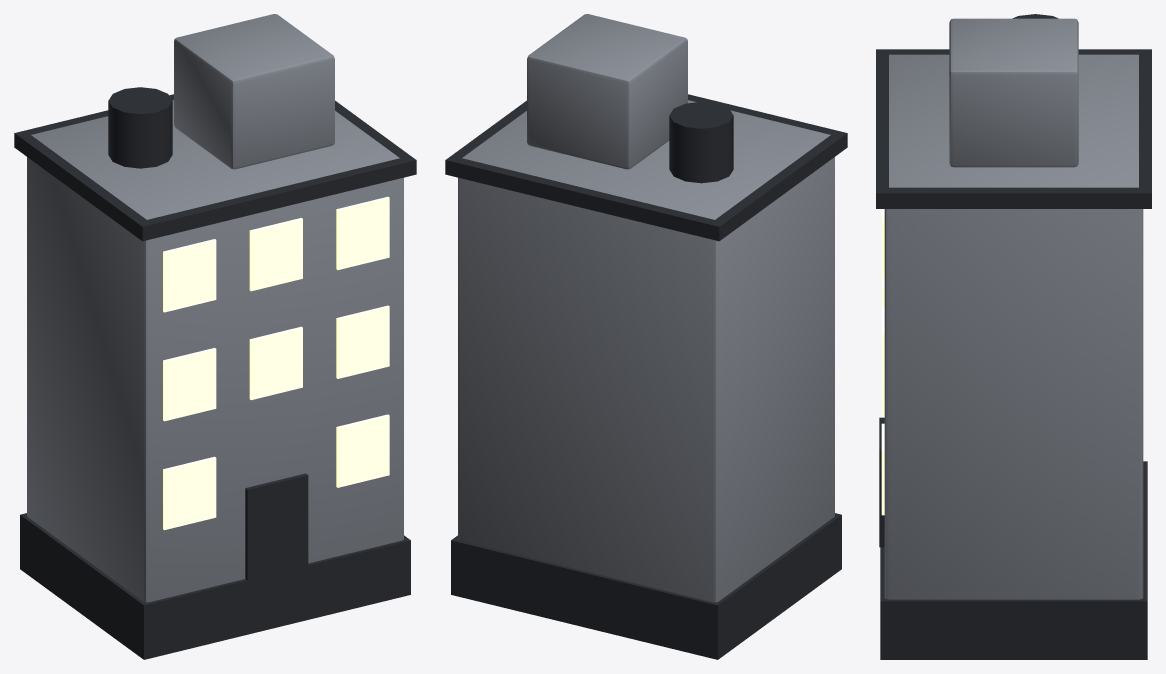
Rendered from predio-15x24.glb.
3 views of the same model, side by side, from view 1: azimuth 30°, elevation 25°; view 2: azimuth 150°, elevation 25°; view 3: azimuth 270°, elevation 25° (orthographic). The views are drawn at different scales.
Visible parts, largest first — view 1: corpo, embasamento, casa-de-maquinas, cornija, porta, caixa-dagua, janela.006, janela.007, janela.008, janela.001, janela.002, janela.003 (+2 smaller); view 2: corpo, embasamento, casa-de-maquinas, cornija, caixa-dagua; view 3: corpo, casa-de-maquinas, embasamento, cornija, porta.
Boxes of the visible parts, x1,y1,x2,y2 form: corpo: (27, 100, 403, 602); embasamento: (20, 513, 410, 659); casa-de-maquinas: (174, 14, 334, 169); cornija: (14, 94, 416, 241); porta: (245, 473, 308, 580); caixa-dagua: (108, 87, 172, 168); janela.006: (336, 414, 389, 487); janela.007: (336, 305, 389, 378); janela.008: (336, 196, 389, 269); janela.001: (163, 456, 216, 530); janela.002: (163, 348, 216, 421); janela.003: (163, 239, 216, 312); corpo: (458, 100, 834, 602); embasamento: (451, 513, 841, 659); casa-de-maquinas: (527, 14, 687, 169); cornija: (445, 94, 847, 241); caixa-dagua: (669, 102, 733, 183); corpo: (884, 54, 1143, 599); casa-de-maquinas: (949, 18, 1078, 167); embasamento: (880, 461, 1147, 659); cornija: (876, 49, 1151, 208); porta: (879, 417, 884, 547).
Size of the model in its own units: 1.58 by 2.9 by 1.28.
